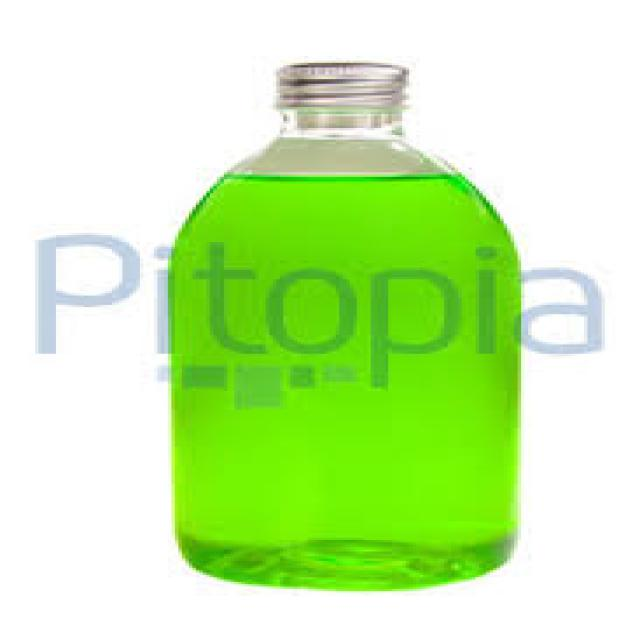glass: (164, 109, 514, 589)
metal: (269, 58, 402, 119)
